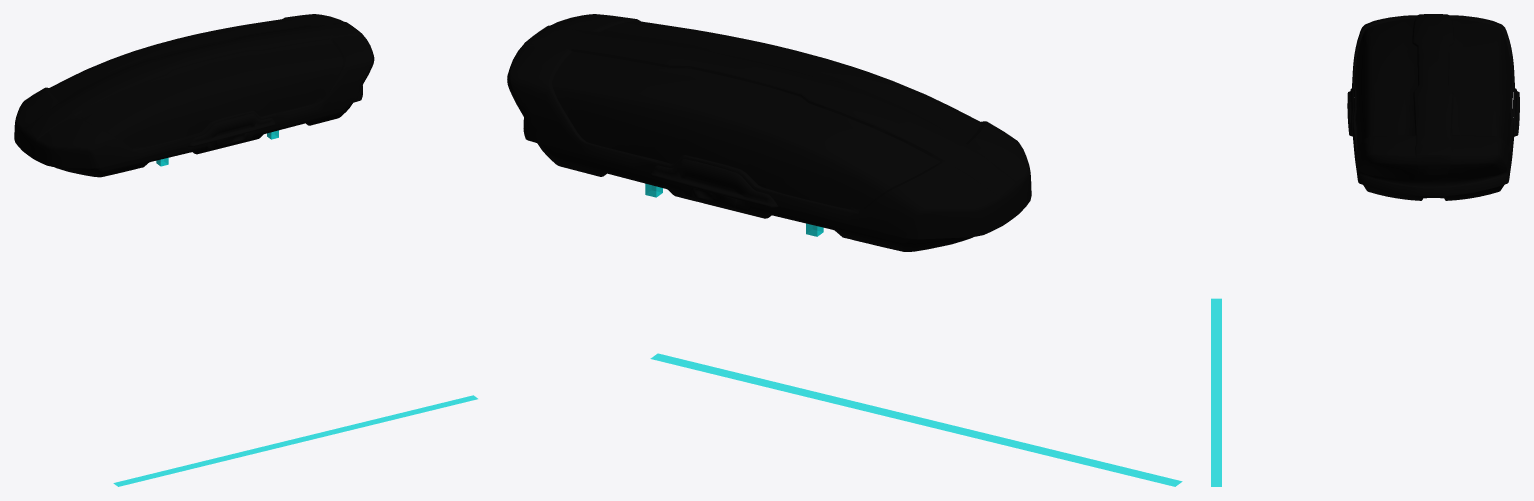
3 renders of one model, left to right at view 1: azimuth 30°, elevation 25°; view 2: azimuth 150°, elevation 25°; view 3: azimuth 270°, elevation 25°, orthographic. The views are drawn at different scales.
Parts seen in each view (by area): view 1: XT_XL_low, Plane003; view 2: XT_XL_low, Plane003; view 3: XT_XL_low, Plane003.
Part boxes in pixels (x1,y1,x2,y2): XT_XL_low: [14, 14, 374, 177]; Plane003: [113, 395, 477, 486]; XT_XL_low: [507, 14, 1031, 251]; Plane003: [650, 353, 1182, 486]; XT_XL_low: [1347, 14, 1519, 200]; Plane003: [1211, 298, 1221, 486].
Bounding box in the file's own units: 2.35 × 1.95 × 1.63.
Materials: 3 (2 with a texture image).
